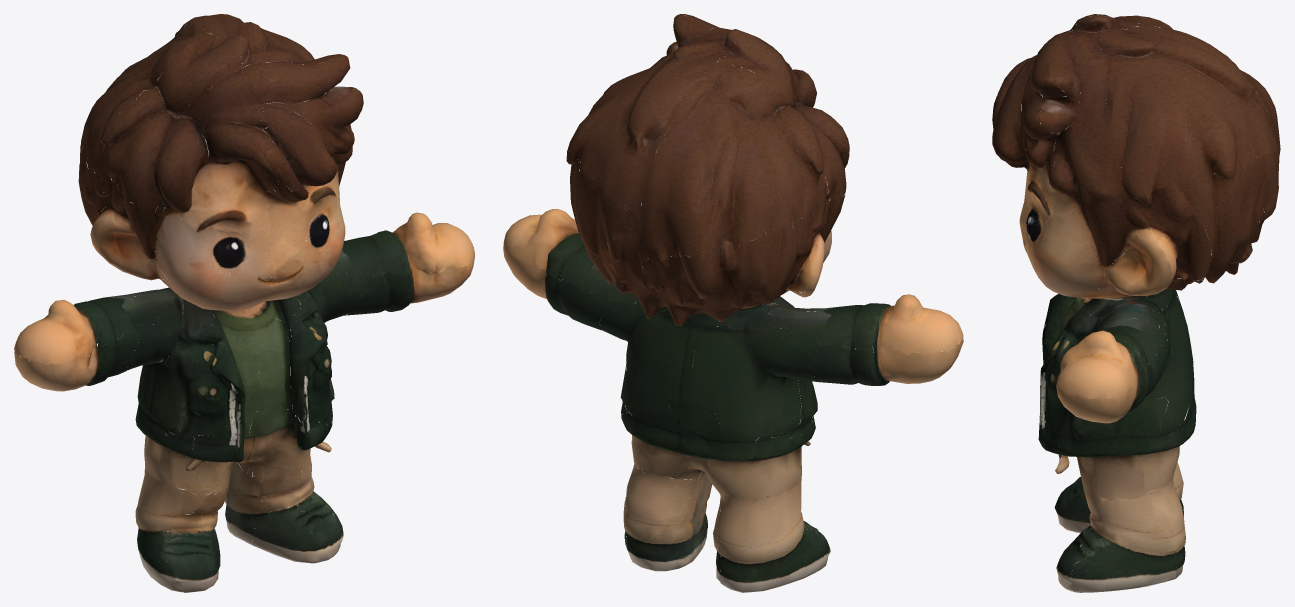
File: kyle.glb
3 renders of one model, left to right at view 1: azimuth 30°, elevation 25°; view 2: azimuth 150°, elevation 25°; view 3: azimuth 270°, elevation 25°, orthographic. The views are drawn at different scales.
Parts seen in each view (by area): view 1: kyle; view 2: kyle; view 3: kyle.
Boxes of the visible parts, bbox=[...] form: kyle: bbox=[14, 14, 474, 592]; kyle: bbox=[503, 14, 963, 592]; kyle: bbox=[992, 14, 1280, 592].
Size of the model in its own units: 1.07 by 1.2 by 0.5836.
1 material, 1 textured.
